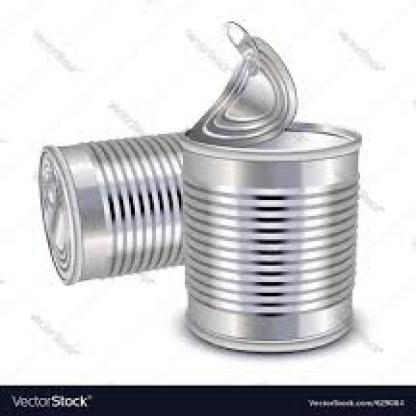METAL: (179, 23, 360, 354), (181, 122, 354, 354), (37, 127, 183, 282), (183, 22, 297, 140), (223, 18, 266, 77)
